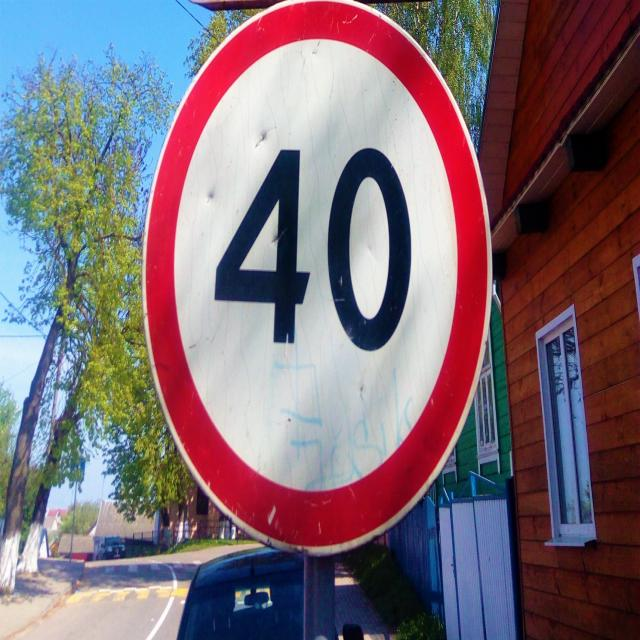speed limit 40: (139, 0, 498, 563)
